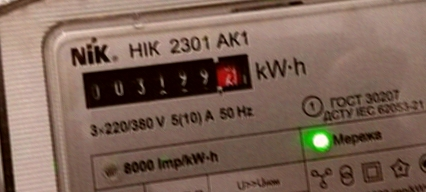0: (114, 76, 127, 97), (91, 80, 102, 99)
1: (157, 69, 168, 88)
3: (136, 74, 148, 95)
6: (224, 70, 235, 85)
9: (178, 66, 190, 87), (200, 66, 212, 85)
screen: (75, 43, 261, 115)
